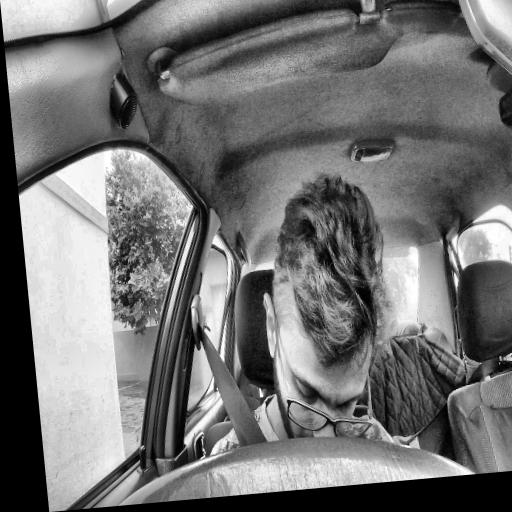drowsy: (249, 169, 408, 460)
